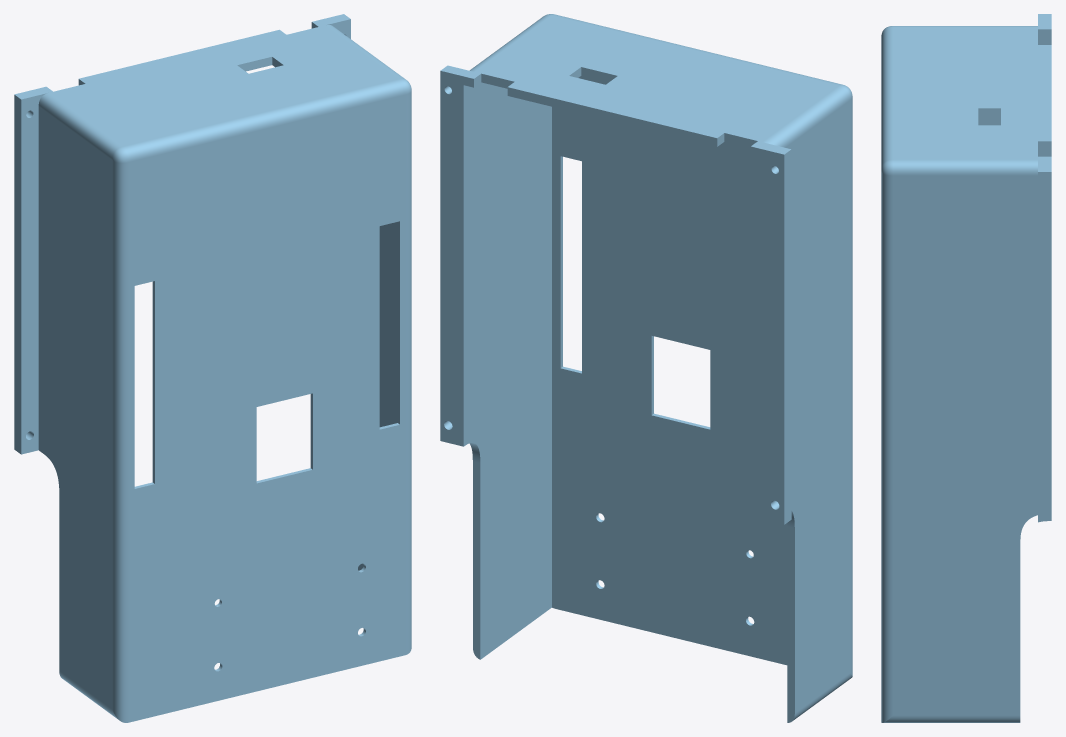
3 views of the same model, side by side, from view 1: azimuth 30°, elevation 25°; view 2: azimuth 150°, elevation 25°; view 3: azimuth 270°, elevation 25° (orthographic). The views are drawn at different scales.
Parts seen in each view (by area): view 1: mesh4174, mesh4159, mesh4167, mesh4154, mesh4164, mesh4140, mesh4138, mesh4149, mesh4162, mesh4160; view 2: mesh4173, mesh4149, mesh4159, mesh4167, mesh4163, mesh4141, mesh4162, mesh4145, mesh4154, mesh4160, mesh4135, mesh4156 (+1 smaller); view 3: mesh4136, mesh4167, mesh4138, mesh4132, mesh4137, mesh4140, mesh4150, mesh4157.
Boxes of the visible parts, left/top/right/bottom form: mesh4174: left=129, top=95, right=404, bottom=722; mesh4159: left=38, top=107, right=112, bottom=708; mesh4167: left=14, top=14, right=398, bottom=146; mesh4154: left=112, top=160, right=129, bottom=722; mesh4164: left=21, top=93, right=46, bottom=454; mesh4140: left=123, top=79, right=404, bottom=161; mesh4138: left=405, top=92, right=411, bottom=655; mesh4149: left=358, top=222, right=397, bottom=570; mesh4162: left=14, top=95, right=21, bottom=454; mesh4160: left=38, top=92, right=122, bottom=159; mesh4173: left=552, top=76, right=787, bottom=665; mesh4149: left=463, top=82, right=551, bottom=659; mesh4159: left=785, top=100, right=850, bottom=712; mesh4167: left=440, top=16, right=838, bottom=154; mesh4163: left=750, top=146, right=784, bottom=524; mesh4141: left=440, top=71, right=473, bottom=446; mesh4162: left=784, top=149, right=791, bottom=524; mesh4145: left=507, top=87, right=717, bottom=146; mesh4154: left=850, top=98, right=852, bottom=675; mesh4160: left=762, top=86, right=850, bottom=147; mesh4135: left=473, top=461, right=480, bottom=659; mesh4156: left=787, top=526, right=794, bottom=722; mesh4136: left=893, top=176, right=1037, bottom=715; mesh4167: left=893, top=14, right=1051, bottom=171; mesh4138: left=881, top=172, right=893, bottom=722; mesh4132: left=1038, top=172, right=1051, bottom=522; mesh4137: left=893, top=159, right=1037, bottom=175; mesh4140: left=881, top=27, right=893, bottom=167; mesh4150: left=883, top=715, right=1020, bottom=722; mesh4157: left=978, top=37, right=1051, bottom=156.
Size of the model in its own units: 0.082 by 0.1358 by 0.0374.
